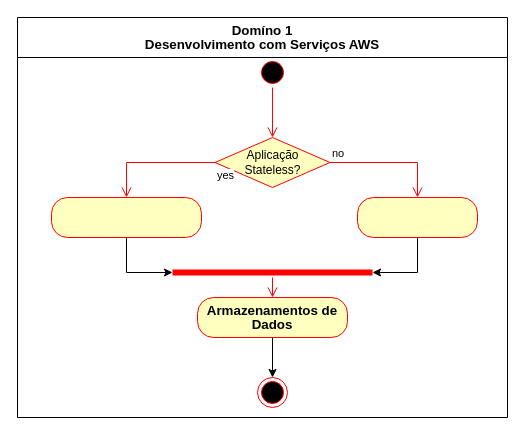
Some shapes in this 525 by 435 pixel diagram are drawn without their labels. Each missing label, with the centre of its shape:
Desenvolver Código: (x=417, y=217)
Desenvolver Código (AWS Lambda): (x=126, y=217)
